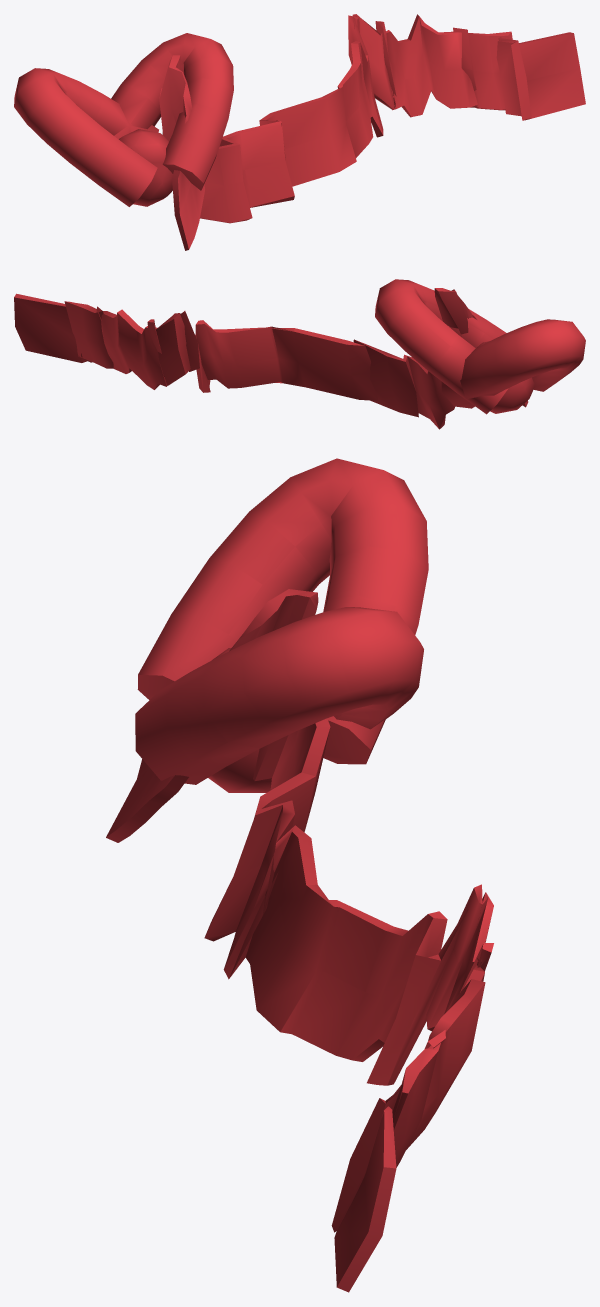
File: frost_gift_ribbon.glb
3 renders of one model, top to bottom at view 1: azimuth 30°, elevation 25°; view 2: azimuth 150°, elevation 25°; view 3: azimuth 270°, elevation 25°, orthographic. The views are drawn at different scales.
Visible parts, largest first — view 1: frost_gift_ribbon; view 2: frost_gift_ribbon; view 3: frost_gift_ribbon.
Boxes of the visible parts, left/top/right/bottom form: frost_gift_ribbon: left=14, top=14, right=585, bottom=250; frost_gift_ribbon: left=14, top=279, right=585, bottom=429; frost_gift_ribbon: left=106, top=458, right=493, bottom=1292.
Bounding box in the file's own units: 7.5 × 2.05 × 2.29.
